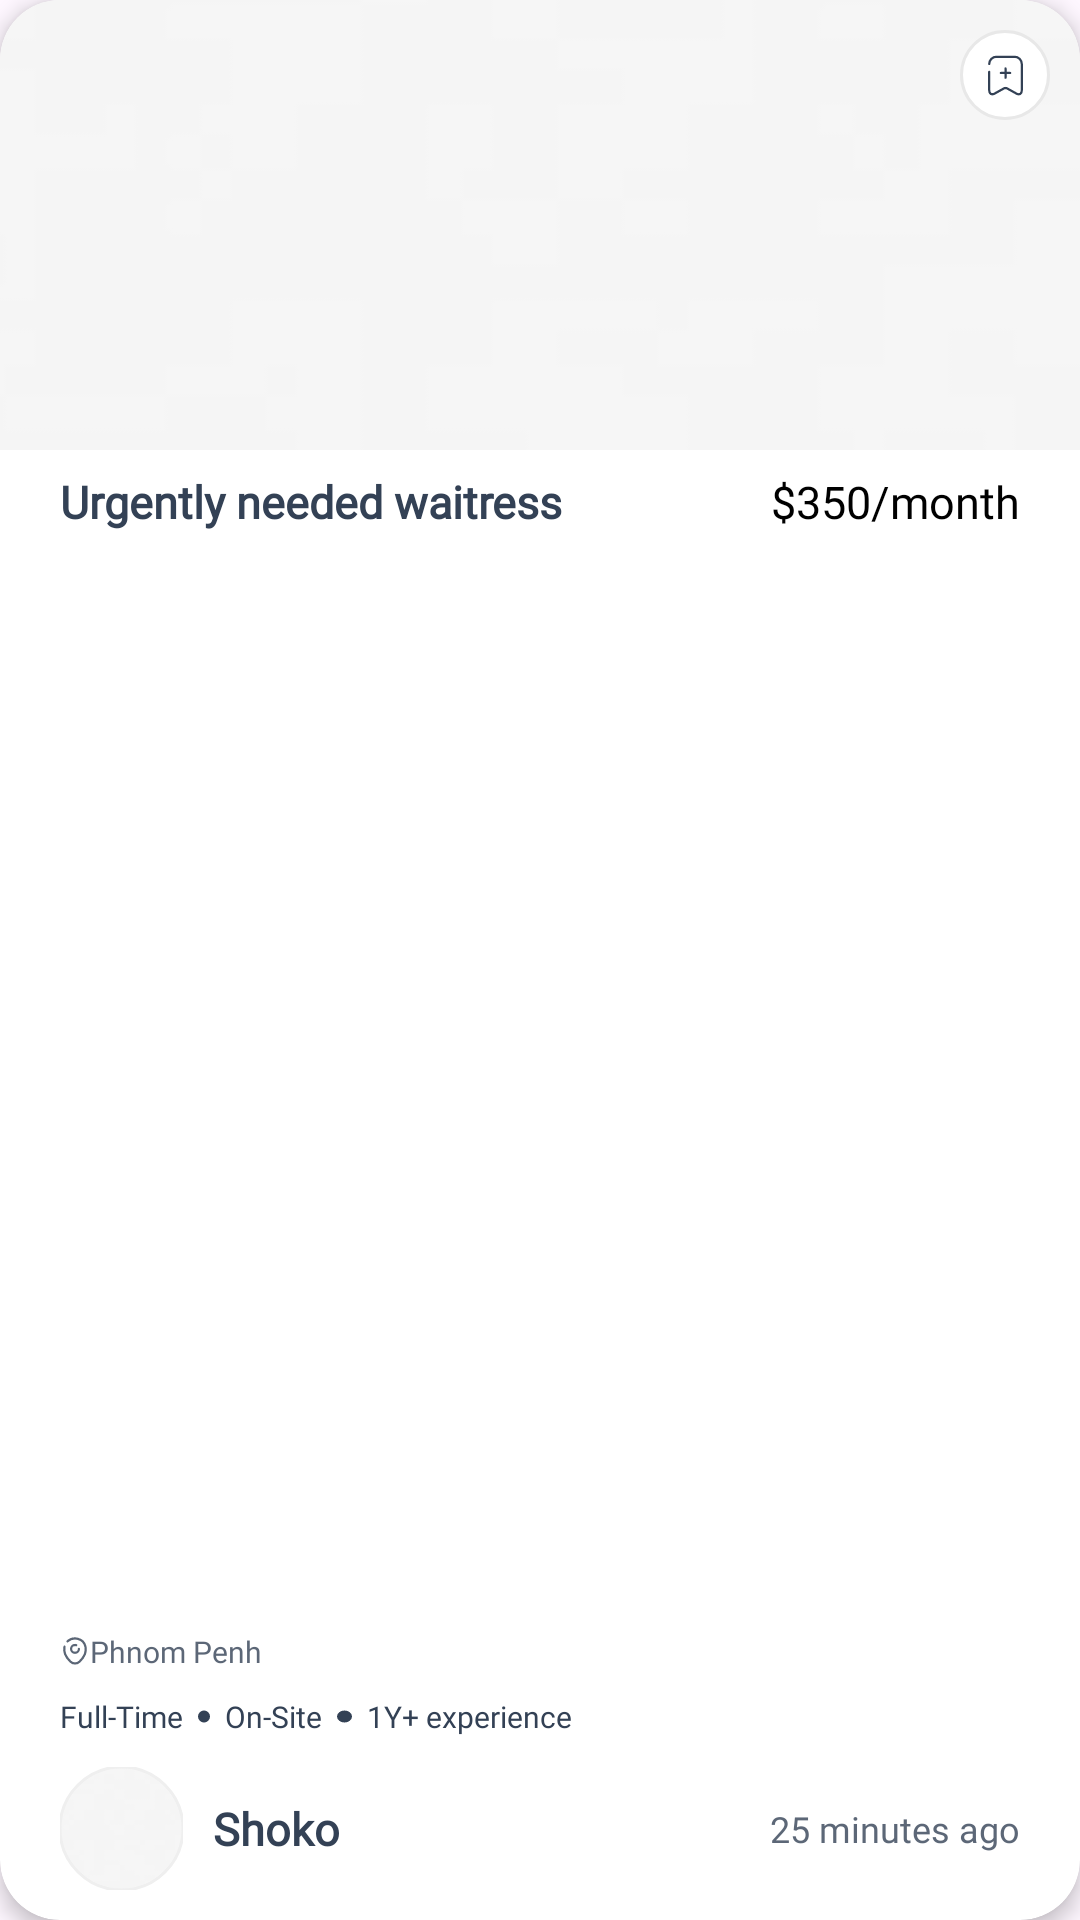

Locate icon controls on the screen. Image size 1080×1920, boxes as (x1, y1, x2, y2).
Bookmark Post: (960, 30, 1050, 120)
location: (63, 1637, 87, 1665)
